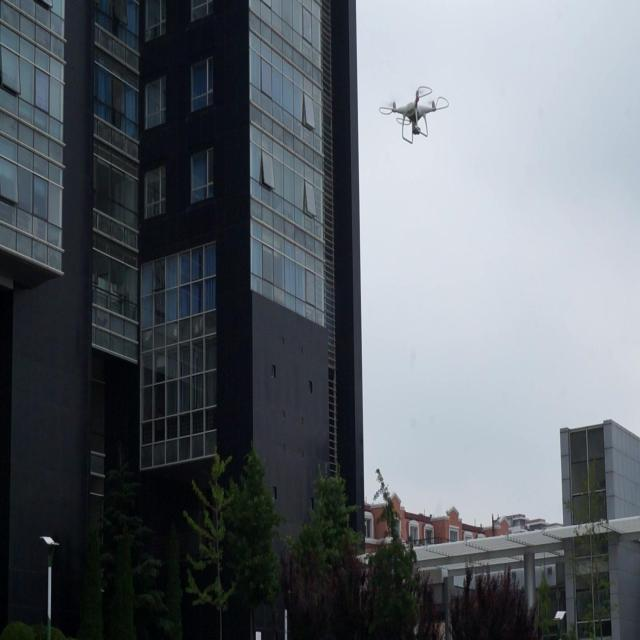drone: (378, 80, 453, 152)
